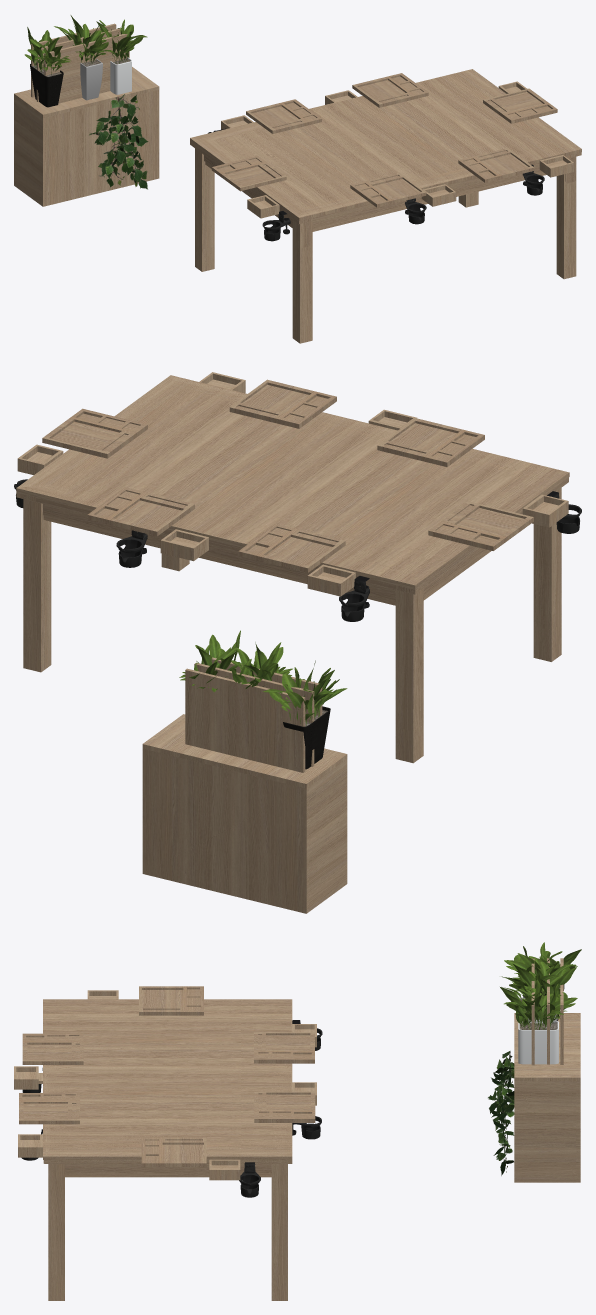
The model's file is Asgard.glb.
3 renders of one model, top to bottom at view 1: azimuth 30°, elevation 25°; view 2: azimuth 150°, elevation 25°; view 3: azimuth 270°, elevation 25°, orthographic. The views are drawn at different scales.
Visible parts, largest first — view 1: Geom3D (×31), Geom3D_Tapadera Cajon; view 2: Geom3D (×28), Geom3D_Tapadera Cajon; view 3: Geom3D (×25), Geom3D_Tapadera Cajon.
Part boxes in pixels (box(x1,y1,x2,y2)): Geom3D (×31): box(14, 15, 581, 343); Geom3D_Tapadera Cajon: box(14, 67, 159, 117); Geom3D (×28): box(16, 375, 569, 913); Geom3D_Tapadera Cajon: box(142, 714, 347, 788); Geom3D (×25): box(14, 942, 581, 1300); Geom3D_Tapadera Cajon: box(514, 1013, 580, 1081).
Size of the model in its own units: 2.26 by 0.9878 by 2.75.
15 materials, 10 textured.
